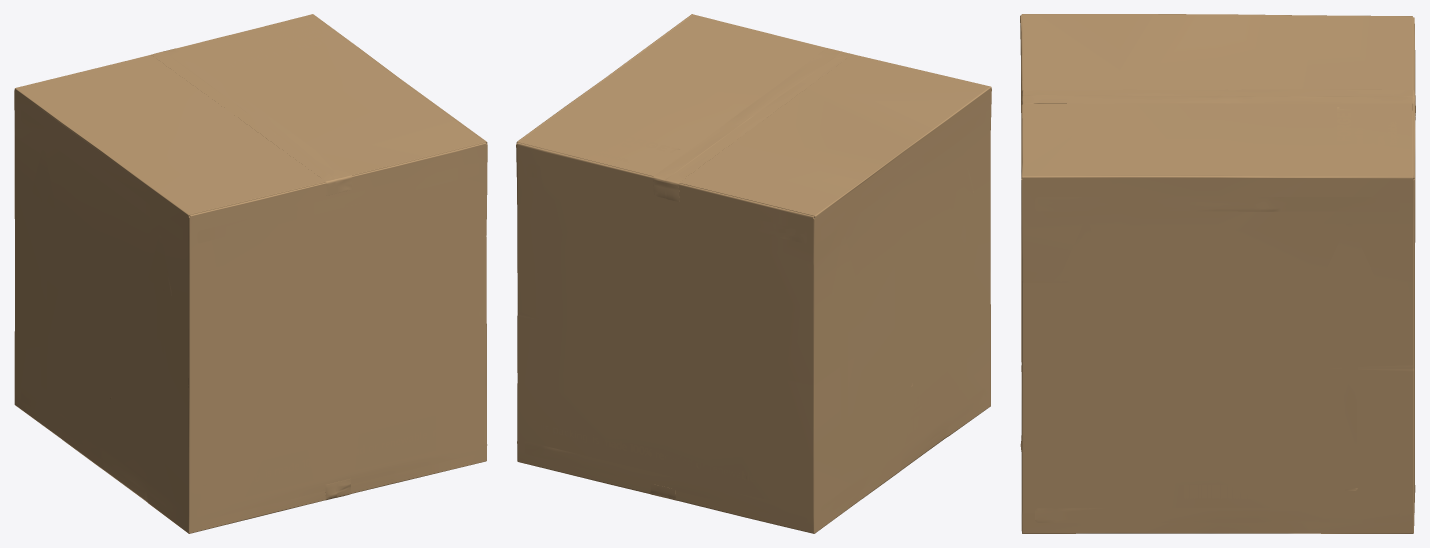
File: box_corrugated_brown_b08.glb
3 views of the same model, side by side, from view 1: azimuth 30°, elevation 25°; view 2: azimuth 150°, elevation 25°; view 3: azimuth 270°, elevation 25° (orthographic). The views are drawn at different scales.
Visible parts, largest first — view 1: box_corrugated_brown_b08; view 2: box_corrugated_brown_b08; view 3: box_corrugated_brown_b08.
Part boxes in pixels (x1,y1,x2,y2): box_corrugated_brown_b08: (14, 14, 487, 533); box_corrugated_brown_b08: (516, 14, 991, 533); box_corrugated_brown_b08: (1020, 14, 1415, 533).
Bounding box in the file's own units: 0.2973 × 0.3037 × 0.3038.
